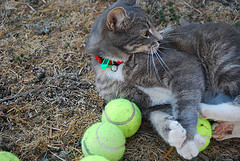tennis ball: (99, 97, 142, 139), (80, 121, 125, 161), (194, 116, 213, 152)
